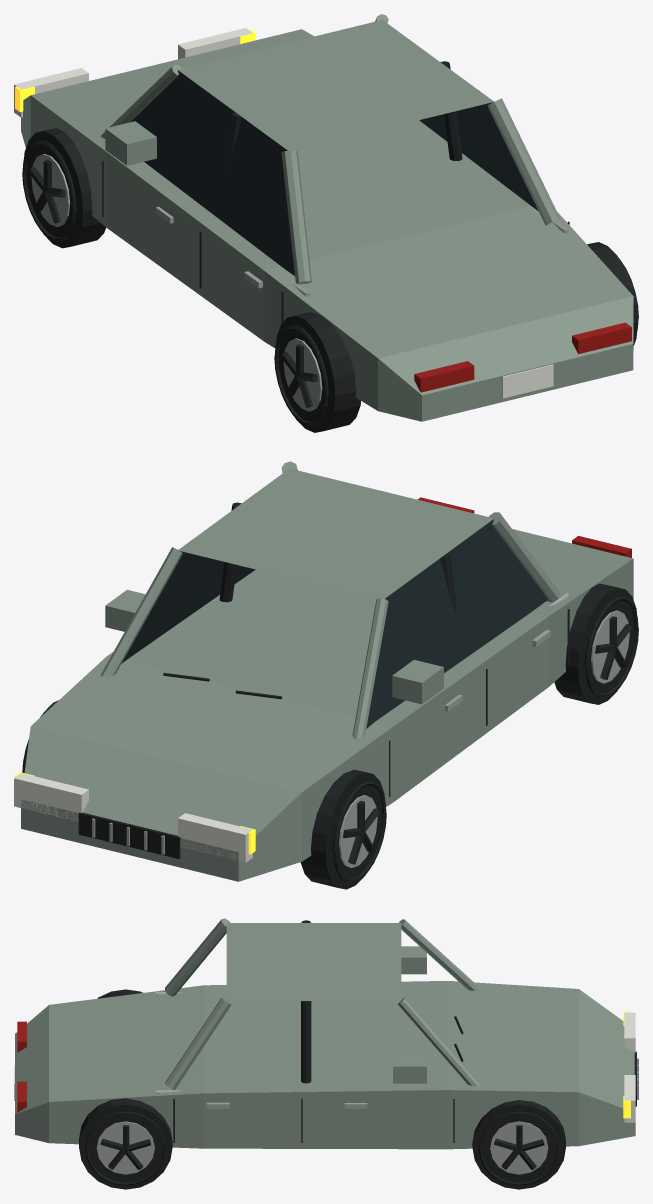
The model's file is parked-car.glb.
The picture shows the model from 3 angles, top to bottom: view 1: azimuth 30°, elevation 25°; view 2: azimuth 150°, elevation 25°; view 3: azimuth 270°, elevation 25°; orthographic projection. The views are drawn at different scales.
Parts seen in each view (by area): view 1: parked-car / sage car paint, parked-car / dark glass, parked-car / rubber, parked-car / sign white, parked-car / metal, parked-car / tail lamp; view 2: parked-car / sage car paint, parked-car / dark glass, parked-car / rubber, parked-car / sign white, parked-car / metal, parked-car / tail lamp; view 3: parked-car / sage car paint, parked-car / rubber, parked-car / metal, parked-car / sign white, parked-car / tail lamp.
Part boxes in pixels (x1,y1,x2,y2): parked-car / sage car paint: [21, 14, 633, 421]; parked-car / dark glass: [130, 70, 538, 275]; parked-car / rubber: [22, 61, 638, 432]; parked-car / sign white: [14, 28, 553, 398]; parked-car / metal: [31, 153, 568, 411]; parked-car / tail lamp: [414, 322, 631, 392]; parked-car / sage car paint: [21, 461, 633, 881]; parked-car / dark glass: [121, 519, 548, 728]; parked-car / rubber: [22, 502, 638, 889]; parked-car / sign white: [14, 773, 252, 862]; parked-car / metal: [92, 593, 629, 868]; parked-car / tail lamp: [418, 497, 631, 557]; parked-car / sage car paint: [15, 918, 635, 1149]; parked-car / rubber: [79, 920, 636, 1189]; parked-car / metal: [96, 991, 638, 1174]; parked-car / sign white: [14, 1012, 635, 1122]; parked-car / tail lamp: [17, 1021, 26, 1112].
Bounding box in the file's own units: 2.03 × 1.35 × 4.4.
